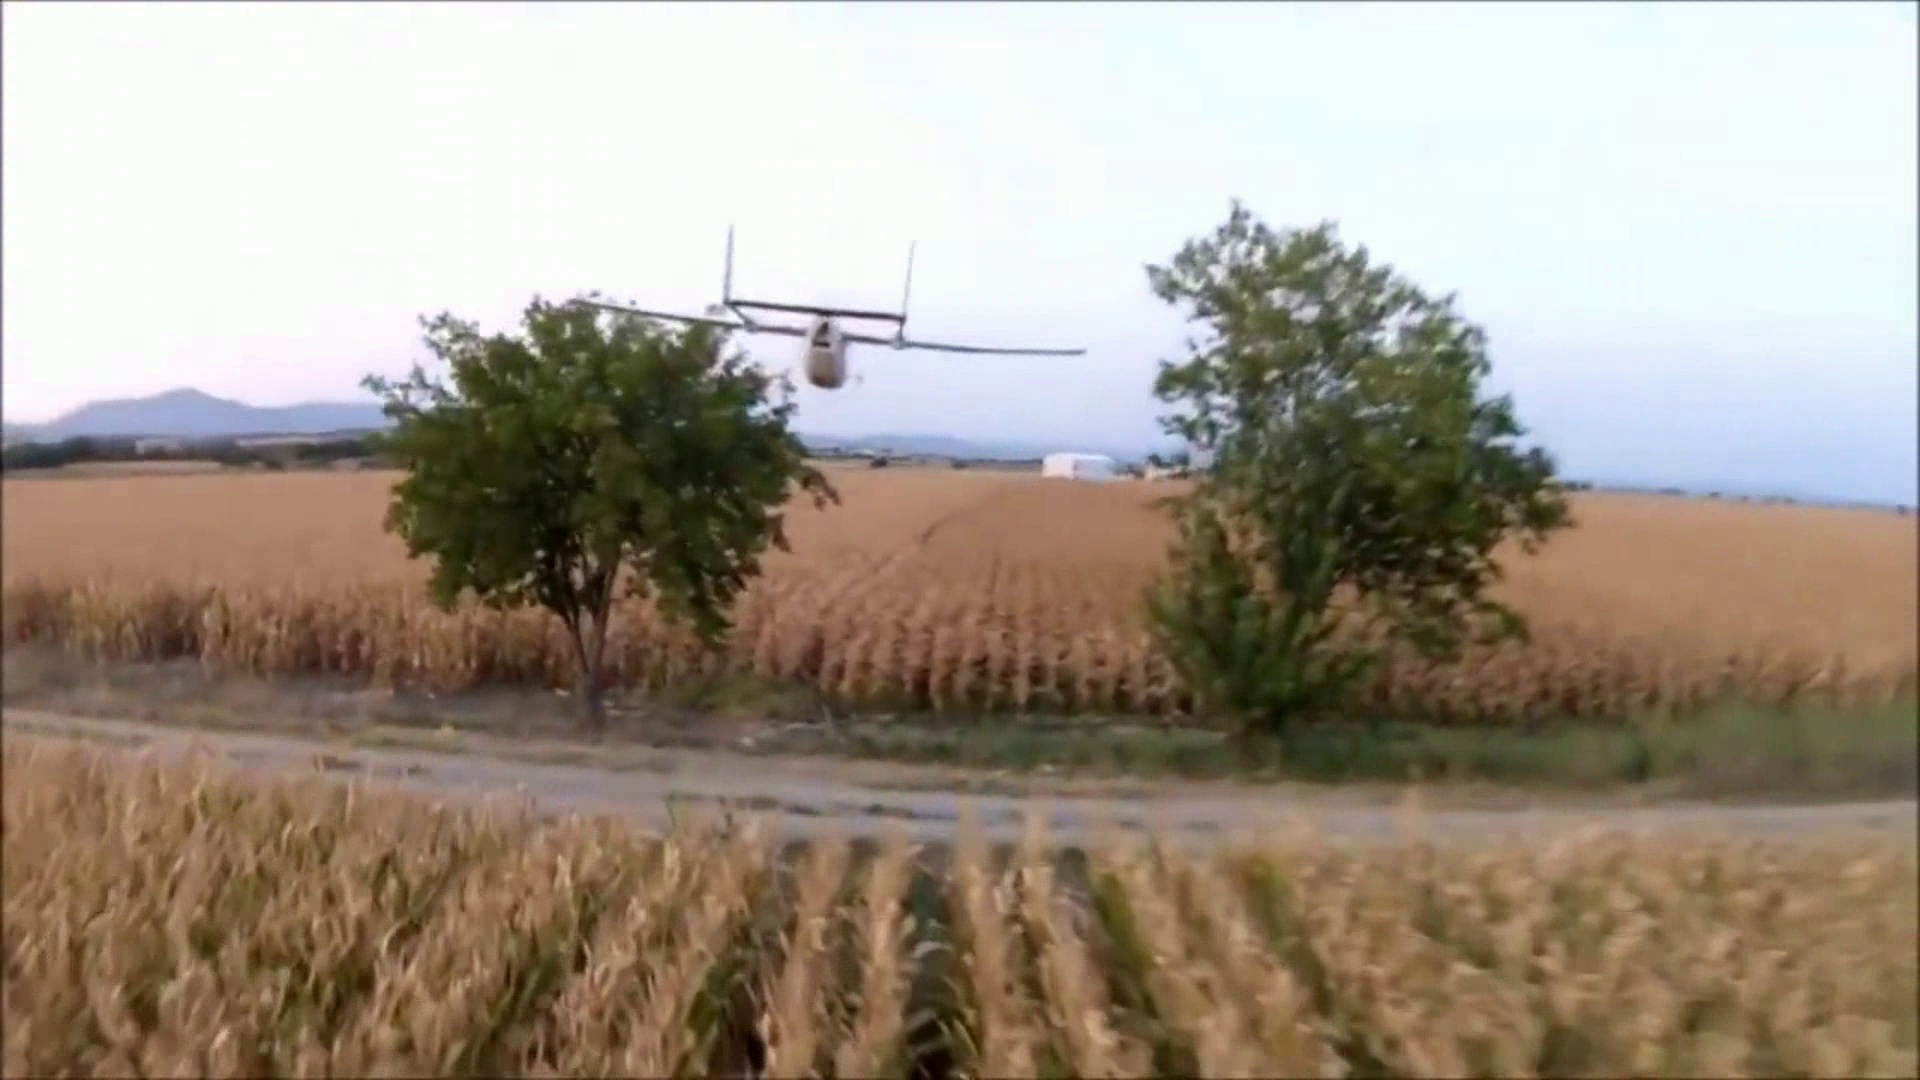airplane: (583, 223, 1087, 393)
